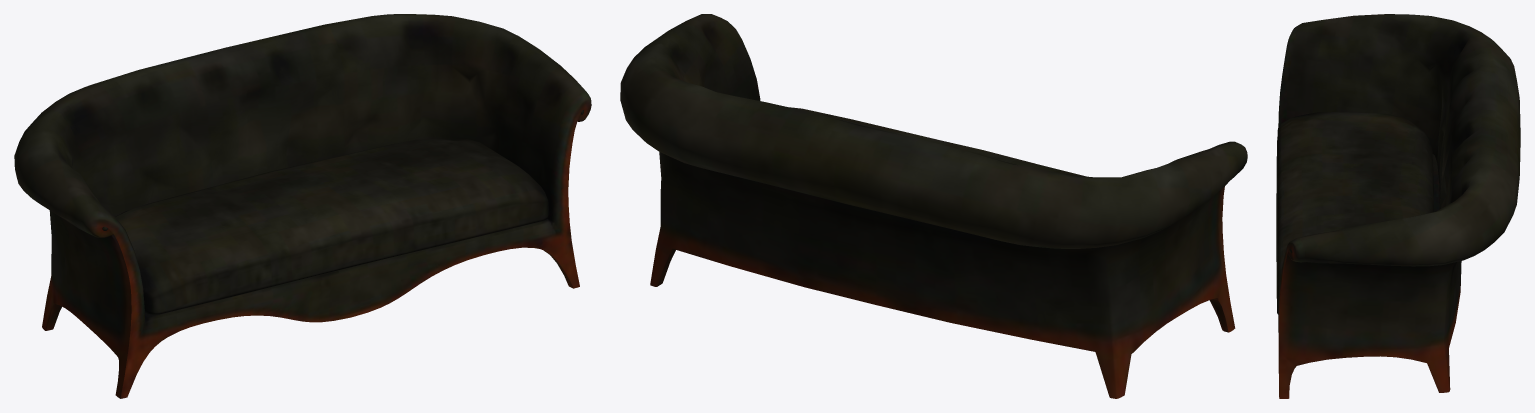
The model's file is sofa_02.gltf.
The picture shows the model from 3 angles, left to right: view 1: azimuth 30°, elevation 25°; view 2: azimuth 150°, elevation 25°; view 3: azimuth 270°, elevation 25°; orthographic projection. The views are drawn at different scales.
Visible parts, largest first — view 1: sofa_02_Base, sofa_02_Seat; view 2: sofa_02_Base, sofa_02_Seat; view 3: sofa_02_Base, sofa_02_Seat.
Part boxes in pixels (bbox=[...]): sofa_02_Base: bbox=[14, 14, 591, 398]; sofa_02_Seat: bbox=[115, 139, 549, 314]; sofa_02_Base: bbox=[620, 14, 1247, 398]; sofa_02_Seat: bbox=[789, 107, 1086, 176]; sofa_02_Base: bbox=[1278, 14, 1520, 398]; sofa_02_Seat: bbox=[1276, 112, 1433, 314].
Size of the model in its own units: 1.81 by 0.7095 by 0.8178.
1 material, 1 textured.
